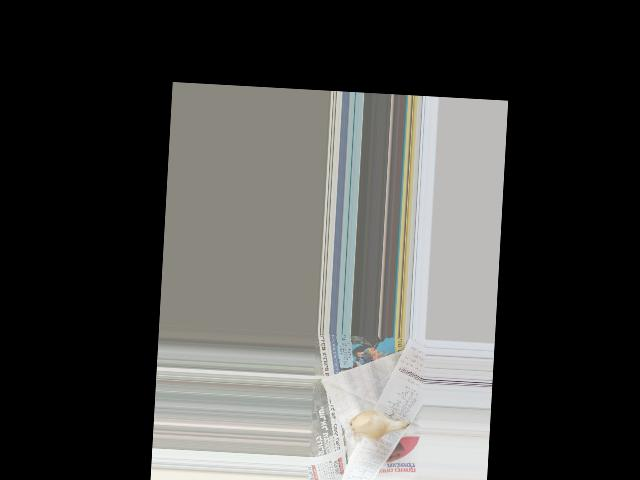onion: (349, 406, 393, 439)
